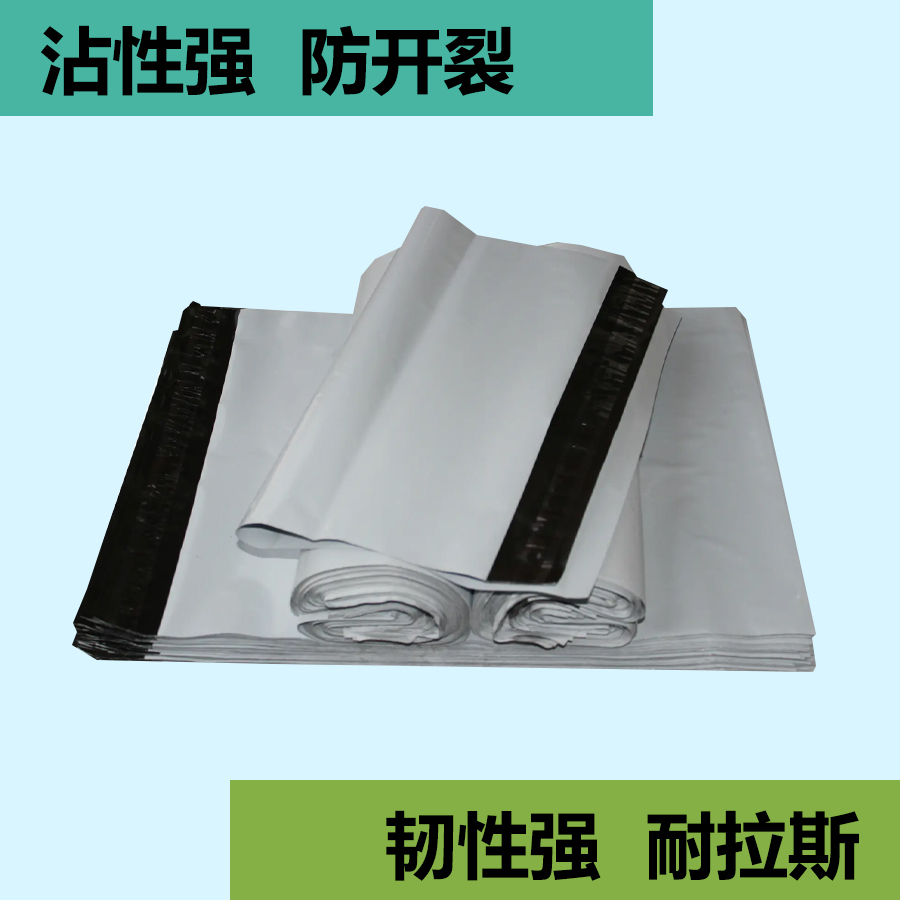塑料袋: (74, 202, 821, 671)
